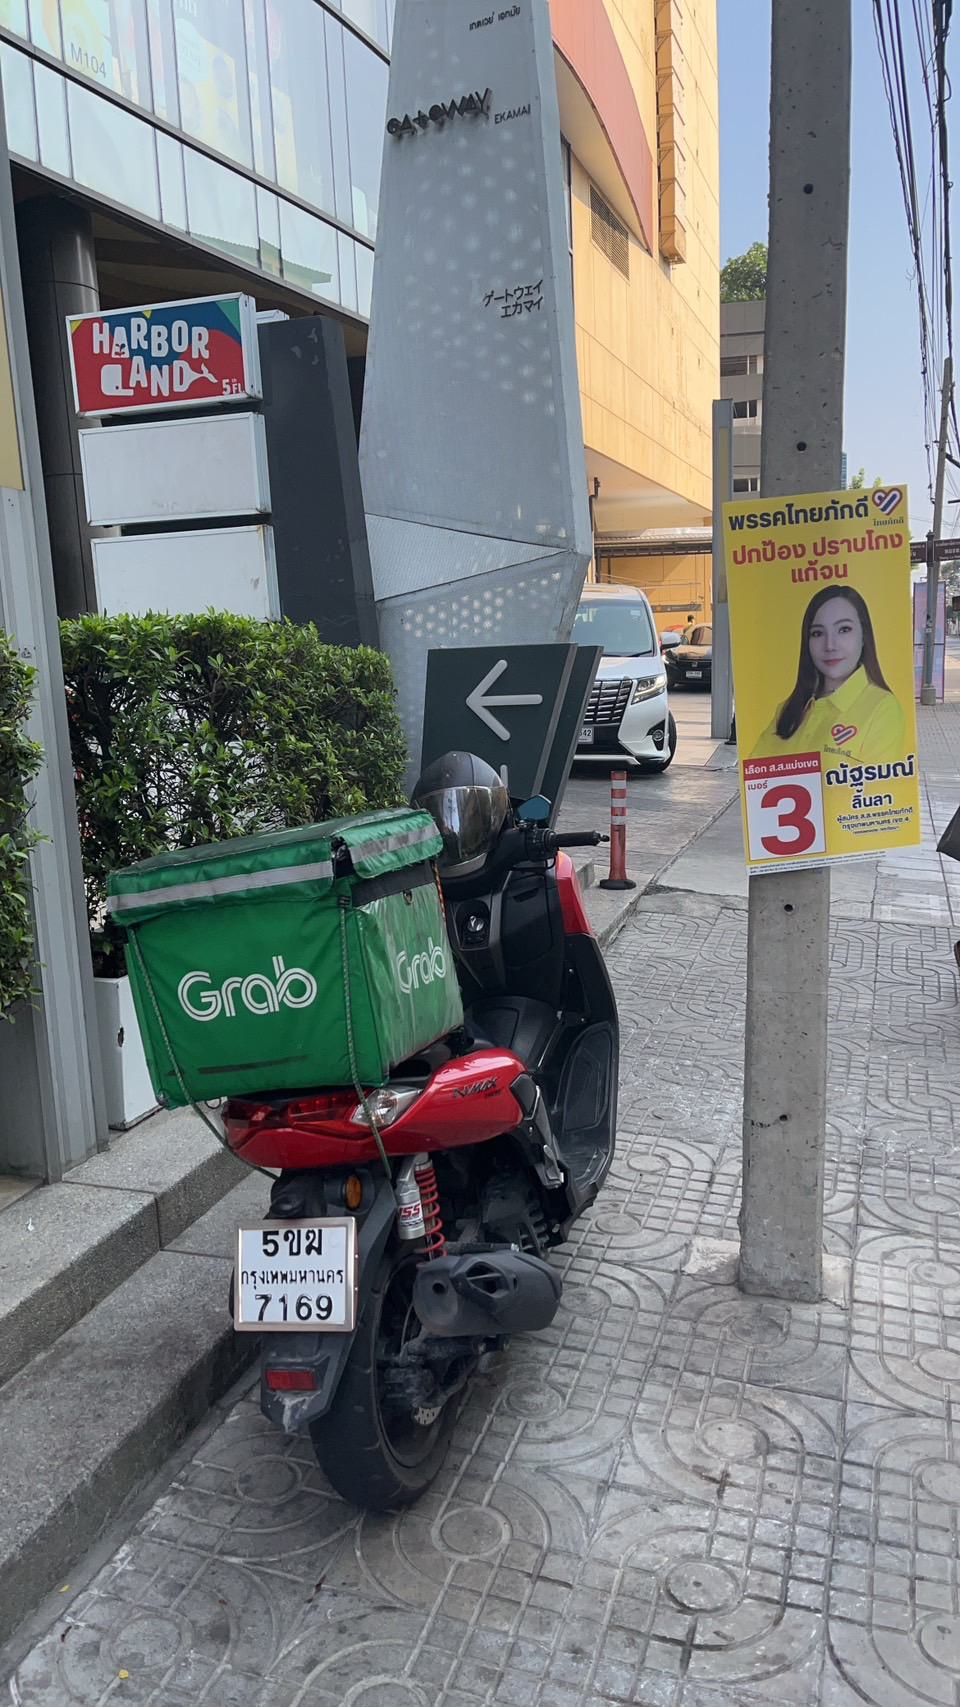Banner: (714, 494, 960, 862)
